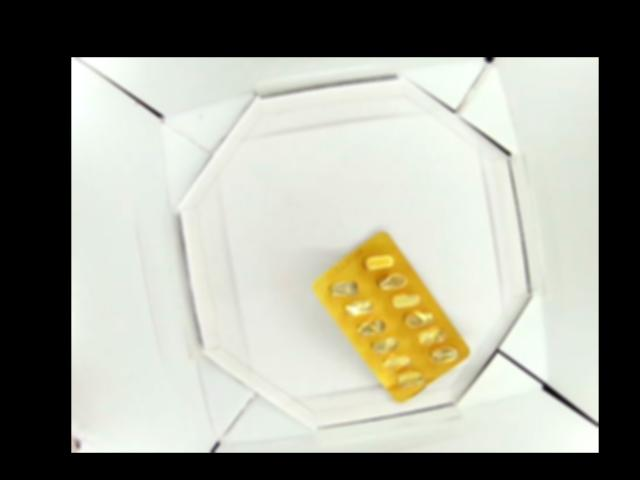Medicine: (313, 230, 471, 404)
